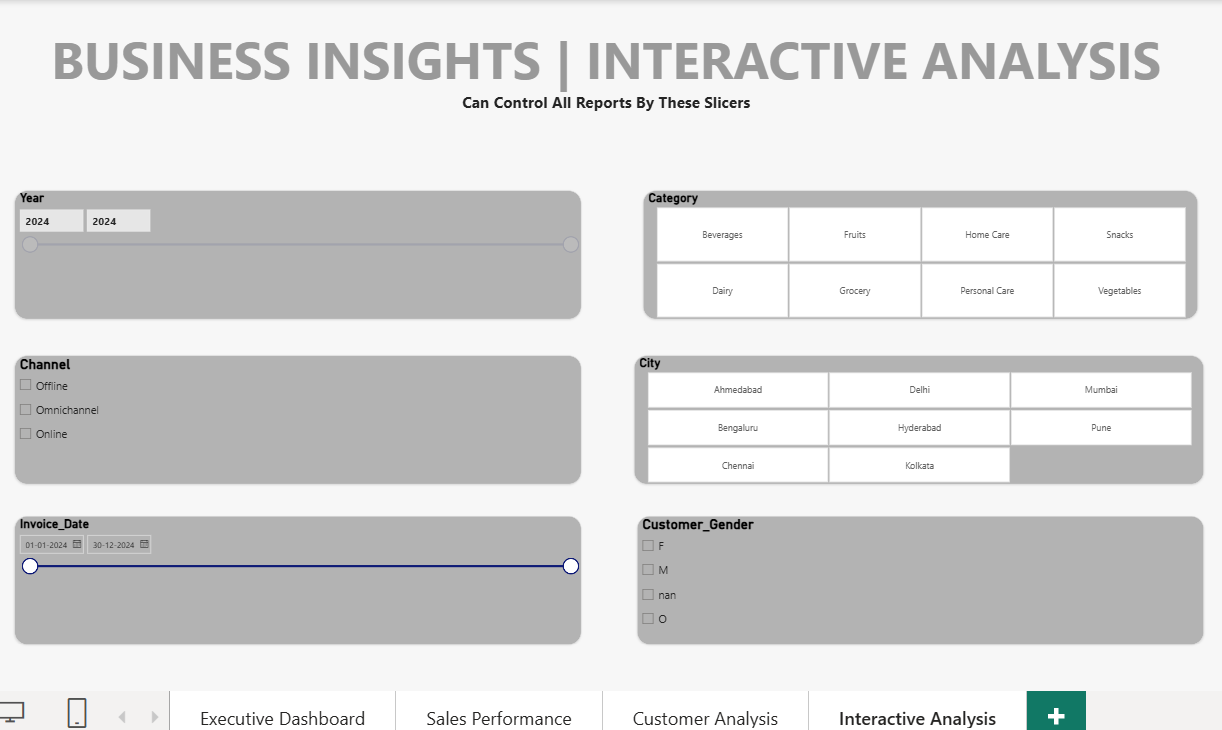

Layout of this report page (visuals, bound fields, positions):
{"tool":"powerbi","page":{"name":"Interactive Analysis","canvas":[1920,1080],"ordinal":3},"visuals":[{"type":"slicer","fields":{"Values":["DimDate.Year"]},"box":[25.8,28.1,886.2,201.6],"z":0},{"type":"slicer","fields":{"Values":["Fact sales.Category"]},"box":[958.9,28.1,926.1,201.6],"z":1000},{"type":"slicer","fields":{"Values":["Fact sales.Channel"]},"box":[25.8,276.6,886.2,201.6],"z":2000},{"type":"slicer","fields":{"Values":["Fact sales.City"]},"box":[958.9,276.6,926.1,201.6],"z":3000}]}

Visuals, with their boxes on the page's 1920x1080 design canvas (x1, y1, x2, y2). These are canvas units, not pixel positions in the 1222x730 screenshot, which may show the page scaled, cropped or inside an application window:
slicer - DimDate.Year: (26,28,912,230)
slicer - Fact sales.Category: (959,28,1885,230)
slicer - Fact sales.Channel: (26,277,912,478)
slicer - Fact sales.City: (959,277,1885,478)
